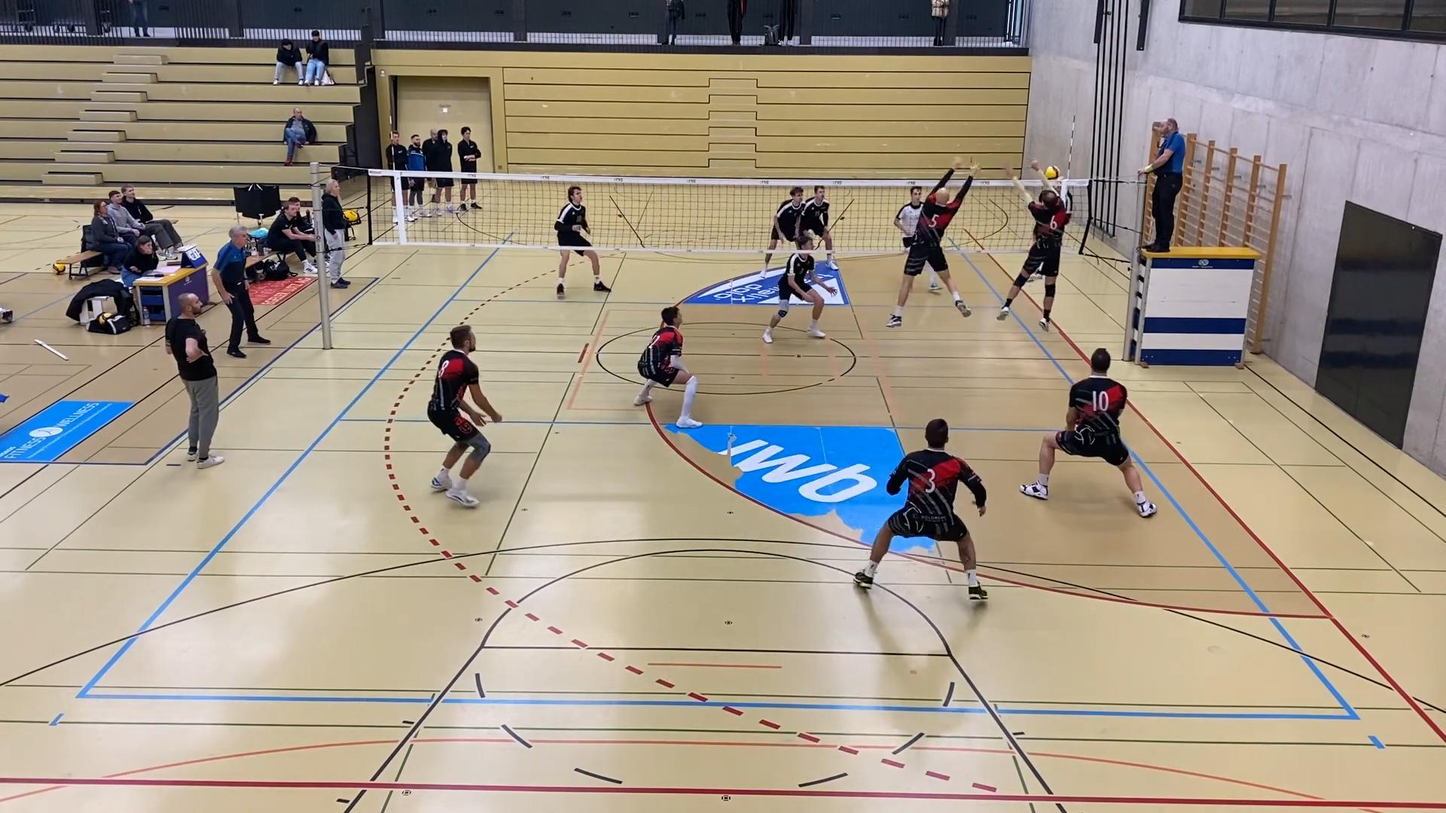attacco: (1039, 161, 1078, 215)
muro: (894, 157, 986, 330), (995, 156, 1079, 326)
